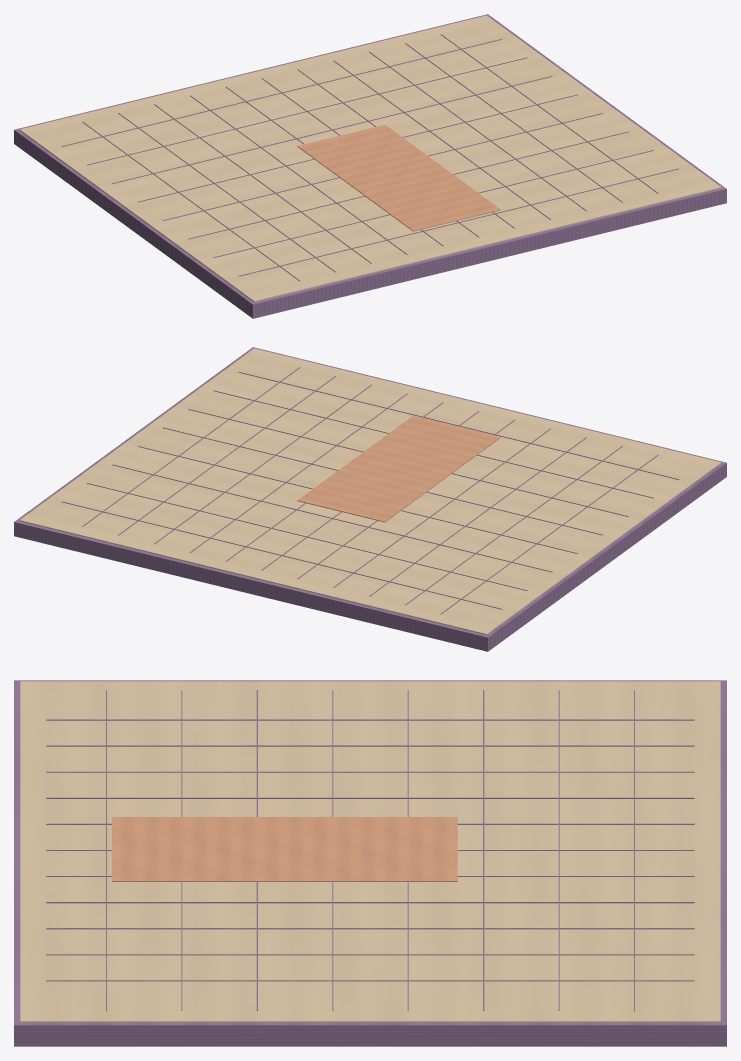
The model's file is atlas100-s084-a07.glb.
3 renders of one model, top to bottom at view 1: azimuth 30°, elevation 25°; view 2: azimuth 150°, elevation 25°; view 3: azimuth 270°, elevation 25°, orthographic. The views are drawn at different scales.
Visible parts, largest first — view 1: atlas100-s084-a07:part-001, atlas100-s084-a07:part-000, atlas100-s084-a07:part-021, atlas100-s084-a07:part-020, atlas100-s084-a07:part-013, atlas100-s084-a07:part-014, atlas100-s084-a07:part-015, atlas100-s084-a07:part-018, atlas100-s084-a07:part-017, atlas100-s084-a07:part-019, atlas100-s084-a07:part-016; view 2: atlas100-s084-a07:part-001, atlas100-s084-a07:part-000, atlas100-s084-a07:part-021, atlas100-s084-a07:part-015, atlas100-s084-a07:part-013, atlas100-s084-a07:part-020, atlas100-s084-a07:part-014, atlas100-s084-a07:part-016, atlas100-s084-a07:part-017, atlas100-s084-a07:part-018, atlas100-s084-a07:part-019; view 3: atlas100-s084-a07:part-001, atlas100-s084-a07:part-000, atlas100-s084-a07:part-021, atlas100-s084-a07:part-002, atlas100-s084-a07:part-003, atlas100-s084-a07:part-005, atlas100-s084-a07:part-004, atlas100-s084-a07:part-009, atlas100-s084-a07:part-010, atlas100-s084-a07:part-011, atlas100-s084-a07:part-012, atlas100-s084-a07:part-014 (+2 smaller).
Part boxes in pixels (bbox=[...]): atlas100-s084-a07:part-001: bbox=[19, 15, 721, 301]; atlas100-s084-a07:part-000: bbox=[14, 14, 726, 318]; atlas100-s084-a07:part-021: bbox=[297, 124, 500, 231]; atlas100-s084-a07:part-020: bbox=[239, 168, 678, 276]; atlas100-s084-a07:part-013: bbox=[62, 39, 502, 146]; atlas100-s084-a07:part-014: bbox=[87, 57, 527, 165]; atlas100-s084-a07:part-015: bbox=[112, 76, 552, 183]; atlas100-s084-a07:part-018: bbox=[188, 131, 628, 239]; atlas100-s084-a07:part-017: bbox=[163, 113, 603, 220]; atlas100-s084-a07:part-019: bbox=[213, 150, 653, 257]; atlas100-s084-a07:part-016: bbox=[138, 94, 577, 202]; atlas100-s084-a07:part-001: bbox=[19, 348, 721, 634]; atlas100-s084-a07:part-000: bbox=[14, 347, 726, 651]; atlas100-s084-a07:part-021: bbox=[297, 415, 500, 522]; atlas100-s084-a07:part-015: bbox=[112, 464, 552, 572]; atlas100-s084-a07:part-013: bbox=[62, 501, 501, 609]; atlas100-s084-a07:part-020: bbox=[238, 372, 678, 479]; atlas100-s084-a07:part-014: bbox=[87, 483, 527, 590]; atlas100-s084-a07:part-016: bbox=[137, 446, 577, 553]; atlas100-s084-a07:part-017: bbox=[163, 427, 602, 535]; atlas100-s084-a07:part-018: bbox=[188, 409, 628, 516]; atlas100-s084-a07:part-019: bbox=[213, 390, 653, 498]; atlas100-s084-a07:part-001: bbox=[20, 681, 720, 1022]; atlas100-s084-a07:part-000: bbox=[14, 680, 726, 1046]; atlas100-s084-a07:part-021: bbox=[112, 817, 457, 881]; atlas100-s084-a07:part-002: bbox=[46, 719, 694, 720]; atlas100-s084-a07:part-003: bbox=[46, 745, 694, 746]; atlas100-s084-a07:part-005: bbox=[46, 797, 694, 798]; atlas100-s084-a07:part-004: bbox=[46, 771, 694, 772]; atlas100-s084-a07:part-009: bbox=[46, 902, 694, 903]; atlas100-s084-a07:part-010: bbox=[46, 928, 694, 929]; atlas100-s084-a07:part-011: bbox=[46, 954, 694, 955]; atlas100-s084-a07:part-012: bbox=[46, 980, 694, 981]; atlas100-s084-a07:part-014: bbox=[558, 690, 559, 1010].
Bounding box in the file's own units: 11.9 × 0.404 × 10.4.
Materials: 3 (3 with a texture image).
